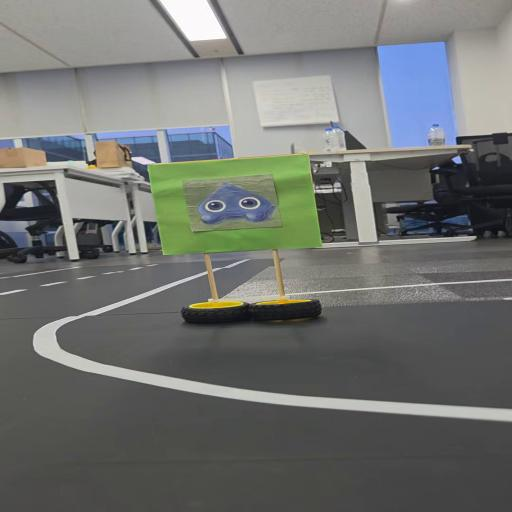Sign_B: (147, 150, 334, 338)
